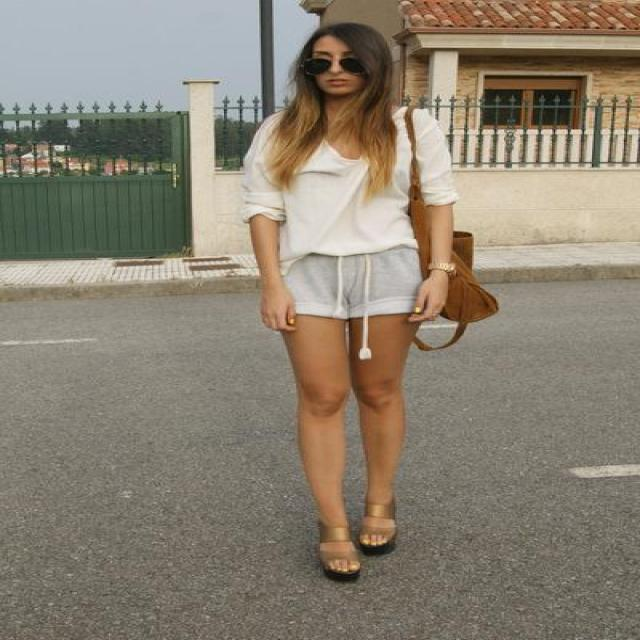bag: (442, 271, 498, 344)
shirt: (216, 96, 461, 258)
shoe: (315, 536, 394, 584)
shorts: (280, 244, 419, 358)
sunglass: (340, 46, 390, 79)
